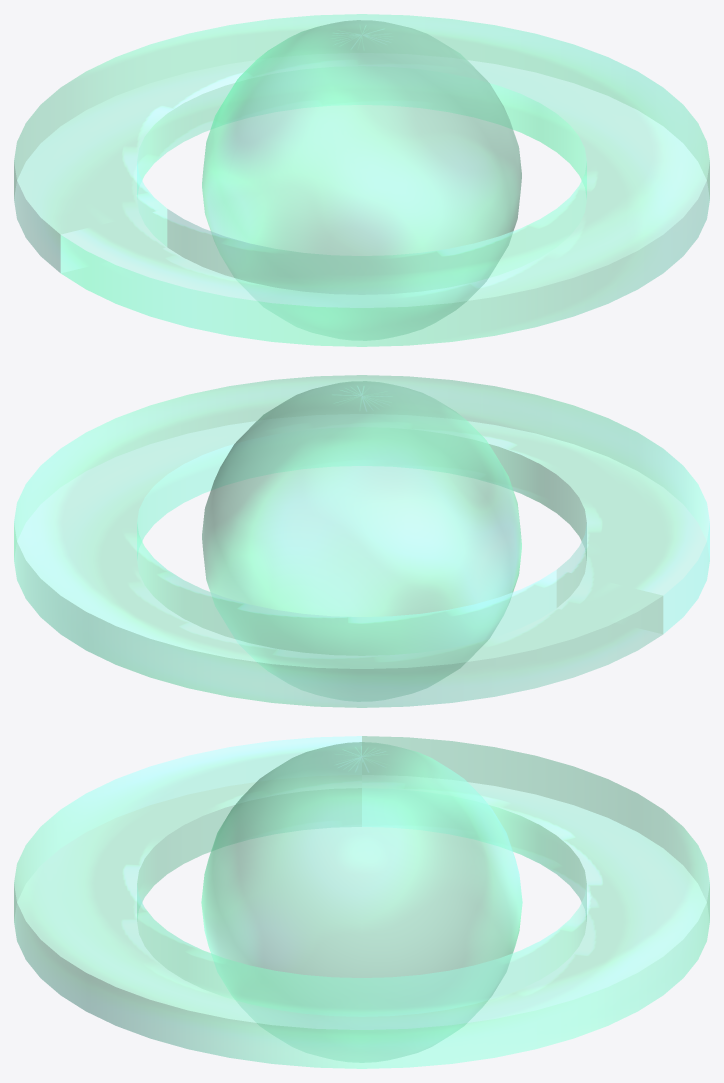
File: item-6-13.glb
3 views of the same model, one above another, from view 1: azimuth 30°, elevation 25°; view 2: azimuth 150°, elevation 25°; view 3: azimuth 270°, elevation 25° (orthographic).
Visible parts, largest first — view 1: plat, planet; view 2: plat, planet; view 3: plat, planet.
Boxes of the visible parts, x1,y1,x2,y2 form: plat: (14, 14, 709, 346); planet: (202, 20, 521, 340); plat: (14, 375, 709, 707); planet: (202, 381, 521, 701); plat: (14, 736, 709, 1068); planet: (201, 742, 522, 1062).
Bounding box in the file's own units: 1.3 × 0.6 × 1.3.
